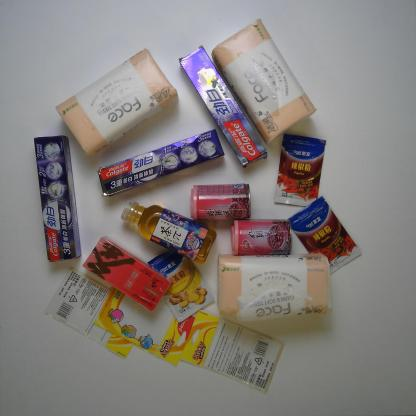Canned Food: (190, 183, 251, 222), (230, 218, 292, 256)
Drink: (120, 199, 217, 264)
Instant Drink: (82, 236, 172, 312)
Personal Hygiene: (178, 45, 268, 169), (96, 129, 225, 198), (34, 134, 82, 263)
Seasoner: (288, 195, 362, 276), (147, 250, 215, 324), (274, 133, 327, 207)
Stationery: (180, 308, 285, 392), (44, 266, 134, 360), (93, 286, 196, 367)
Tissue: (55, 47, 180, 159), (211, 18, 317, 145), (217, 252, 331, 323)
